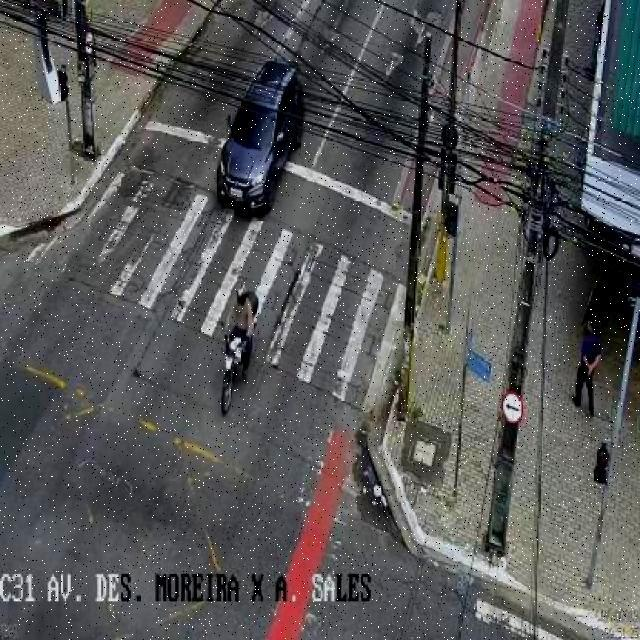Car: (212, 54, 302, 221)
Cycle: (214, 280, 262, 415)
